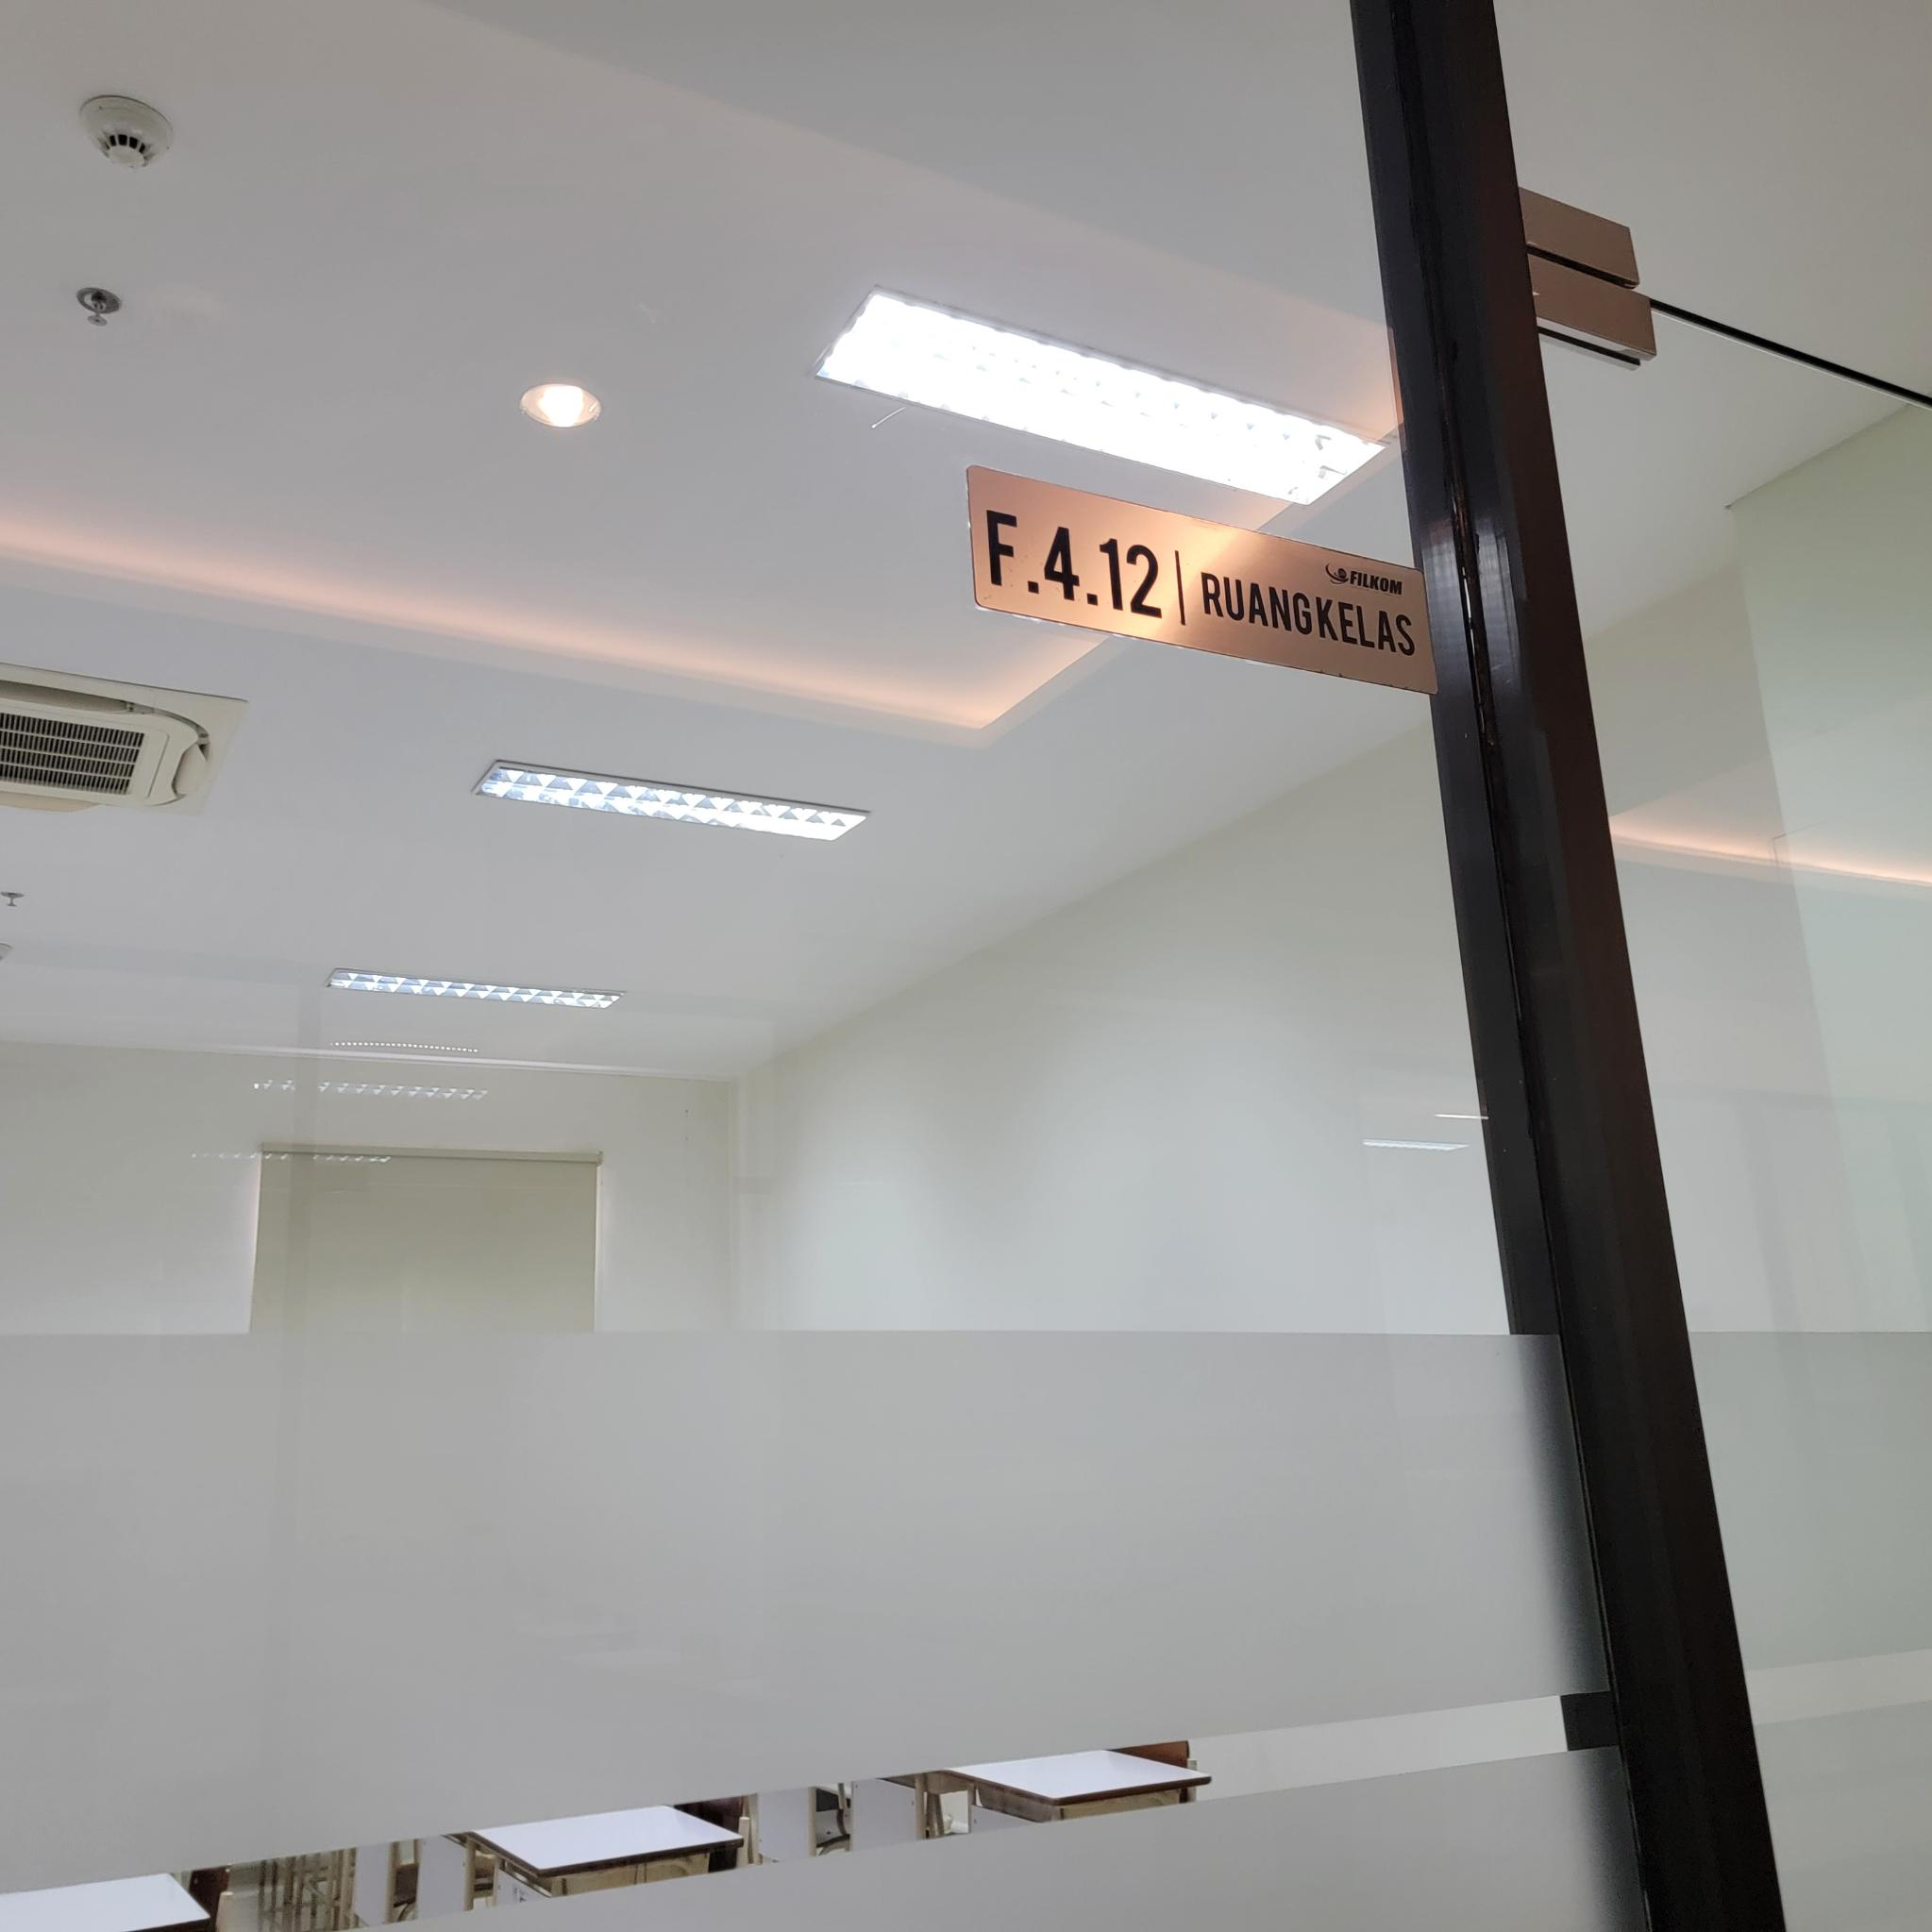plate: (966, 465, 1444, 697)
